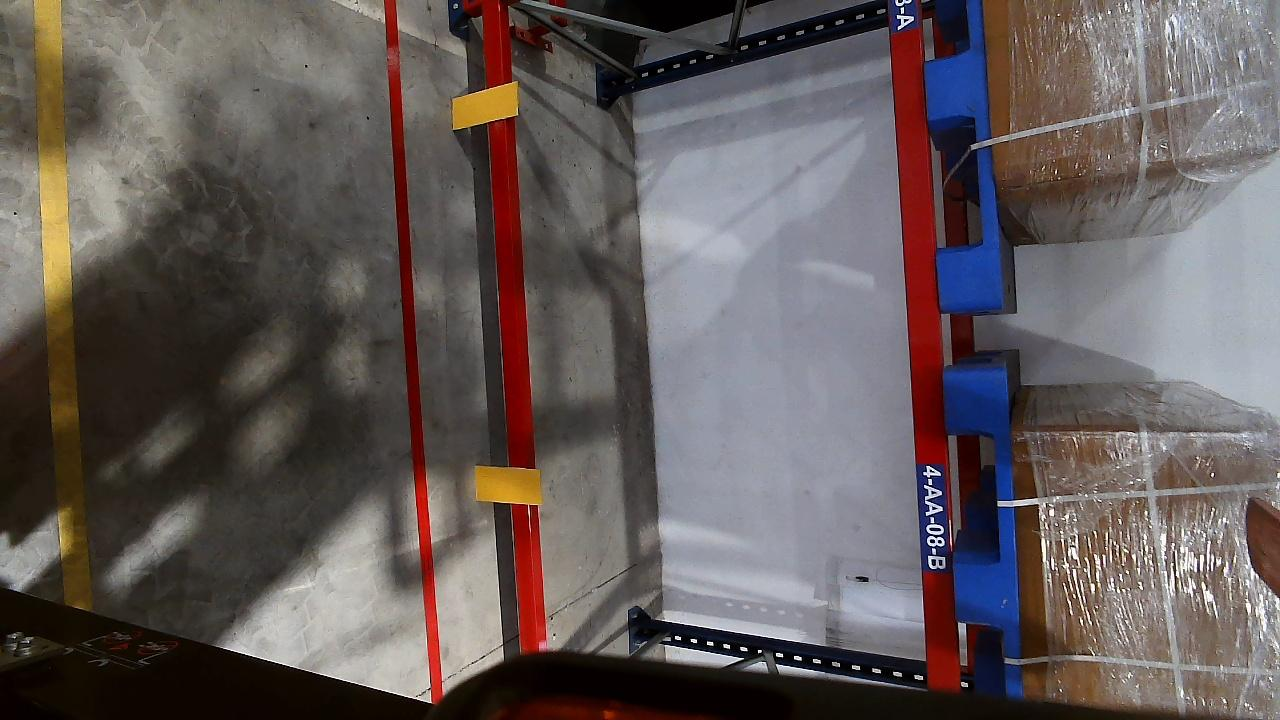h_rack: (475, 2, 564, 649), (884, 0, 955, 678)
orange_strip: (451, 82, 520, 128), (473, 466, 540, 505)
red_line: (368, 0, 454, 680)
small_pallet: (915, 0, 1008, 305), (942, 373, 1028, 690)
yellow_line: (29, 0, 107, 610)
